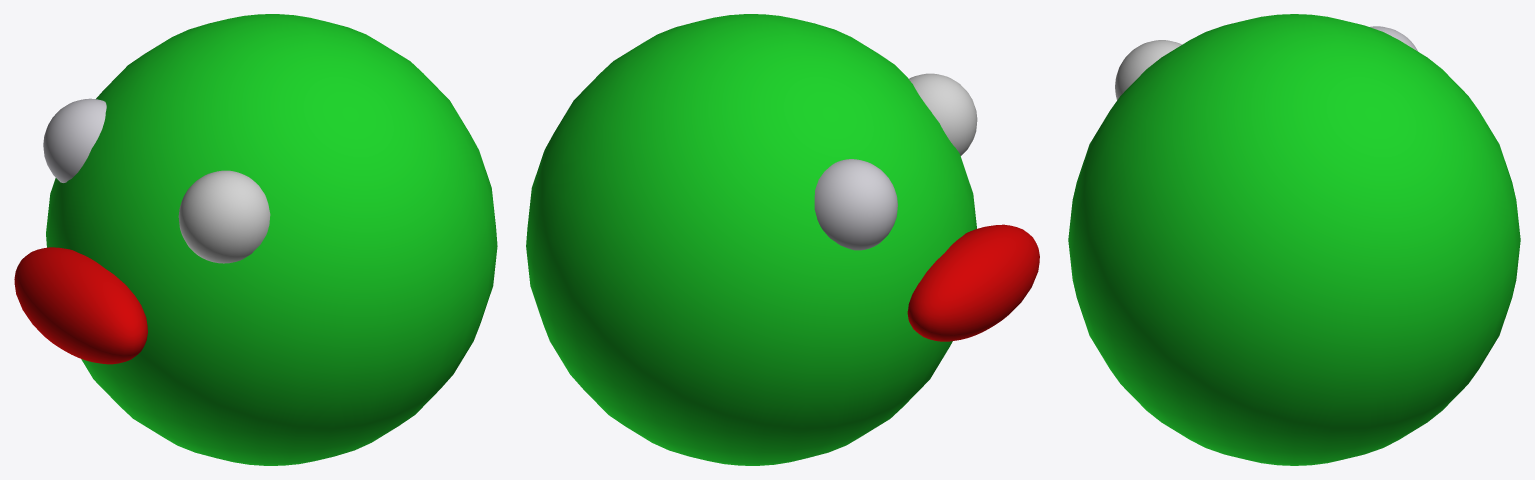
The model's file is SnakeHead.obj.
The picture shows the model from 3 angles, left to right: view 1: azimuth 30°, elevation 25°; view 2: azimuth 150°, elevation 25°; view 3: azimuth 270°, elevation 25°; orthographic projection.
Visible parts, largest first — view 1: Sphere, Sphere.003, Sphere.001, Sphere.002; view 2: Sphere, Sphere.003, Sphere.002, Sphere.001; view 3: Sphere, Sphere.001.
Boxes of the visible parts, left/top/right/bottom form: Sphere: left=46, top=14, right=497, bottom=465; Sphere.003: left=14, top=247, right=147, bottom=364; Sphere.001: left=178, top=170, right=270, bottom=263; Sphere.002: left=43, top=98, right=106, bottom=182; Sphere: left=526, top=14, right=976, bottom=465; Sphere.003: left=907, top=224, right=1039, bottom=341; Sphere.002: left=814, top=159, right=897, bottom=250; Sphere.001: left=909, top=73, right=977, bottom=155; Sphere: left=1068, top=14, right=1520, bottom=465; Sphere.001: left=1115, top=40, right=1181, bottom=100.
Bounding box in the file's own units: 0.4337 × 0.384 × 0.384.
